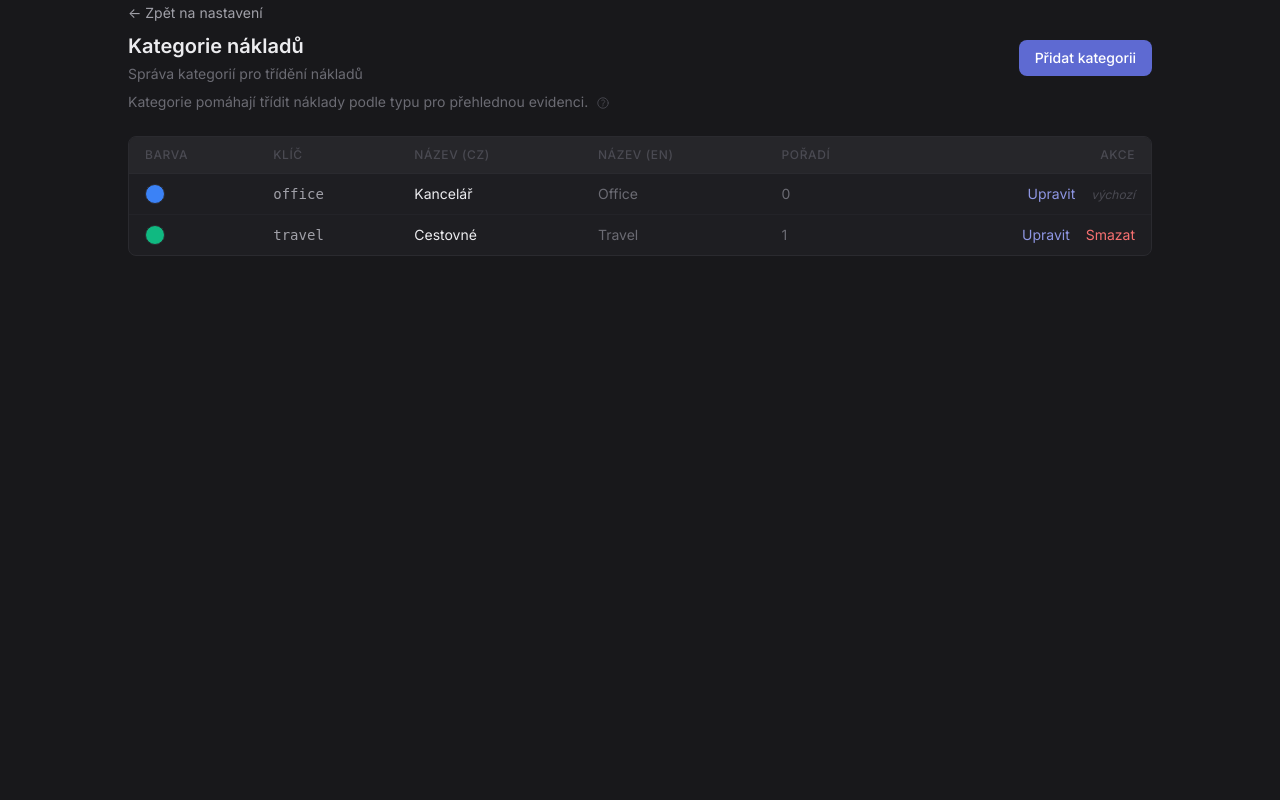
Test: Categories Settings Page › cancel hides form
This screenshot has width=1280, height=800.
expect the text "office" is shown: met, box [257,174,398,214]
Click the button "Přidat kategorii". click: {"x": 1085, "y": 58}
box: [1019,40,1152,76]
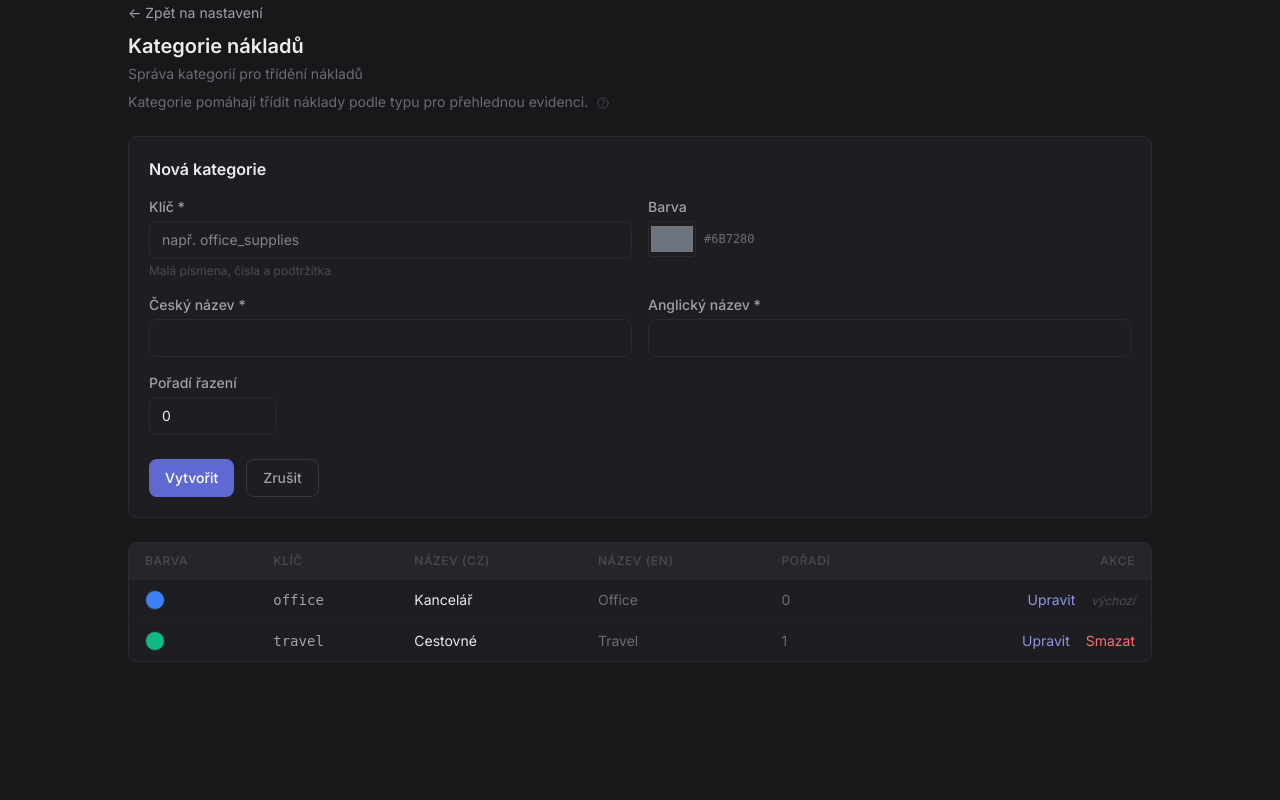
expect the heading "Nová kategorie" is shown: met, box [149,159,266,179]
Click the button "Zrušit". click: {"x": 282, "y": 478}
box: [246,459,319,497]
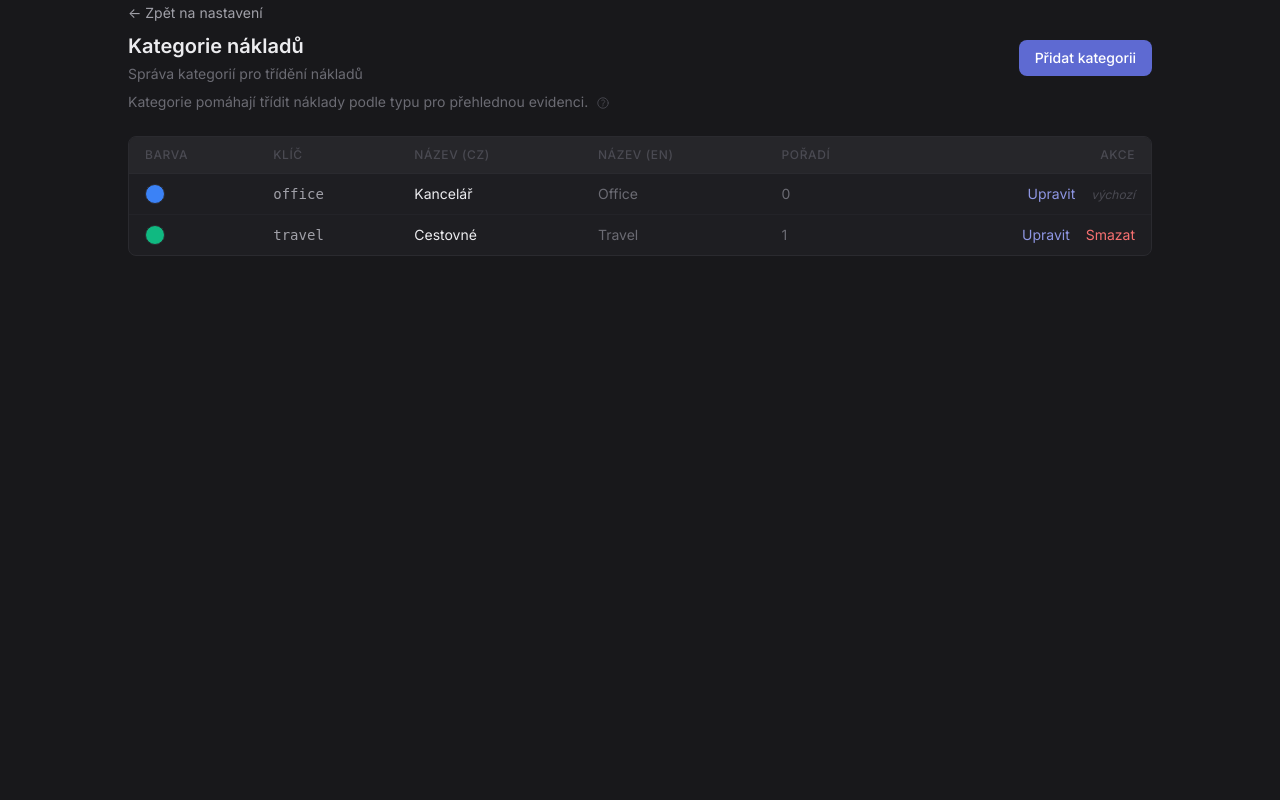
expect the heading "Nová kategorie" is gone: met
